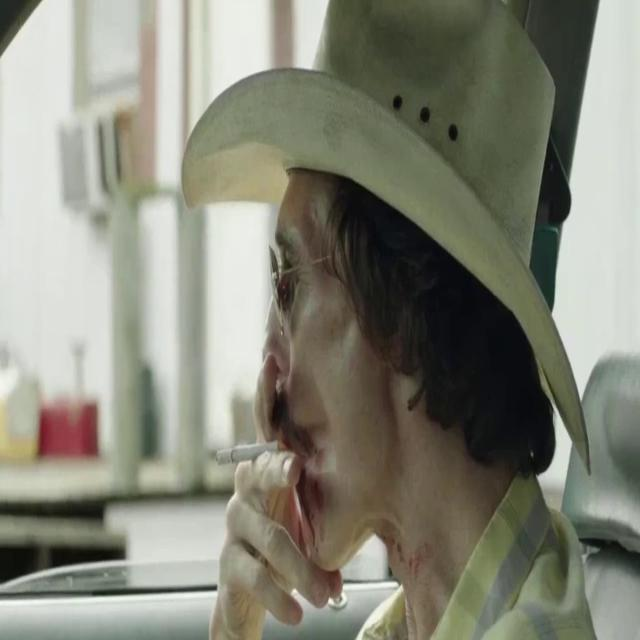Smooking: (208, 438, 294, 467)
